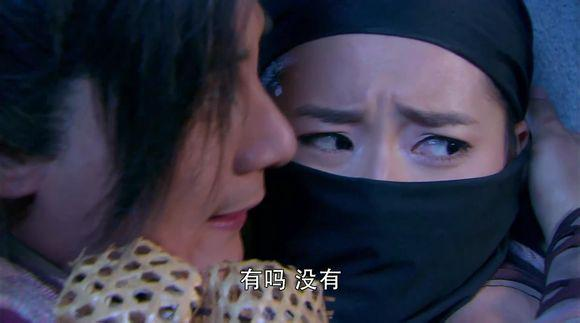NONE: (87, 43, 299, 274)
OK: (281, 64, 497, 280)
